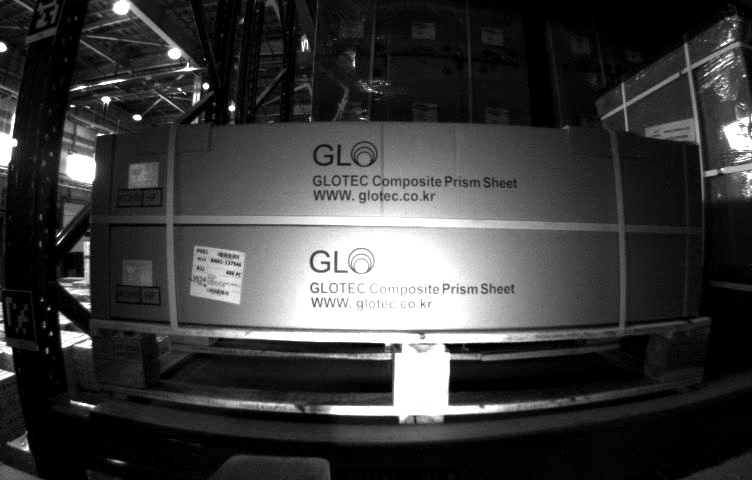True Barcode: (191, 243, 243, 307)
